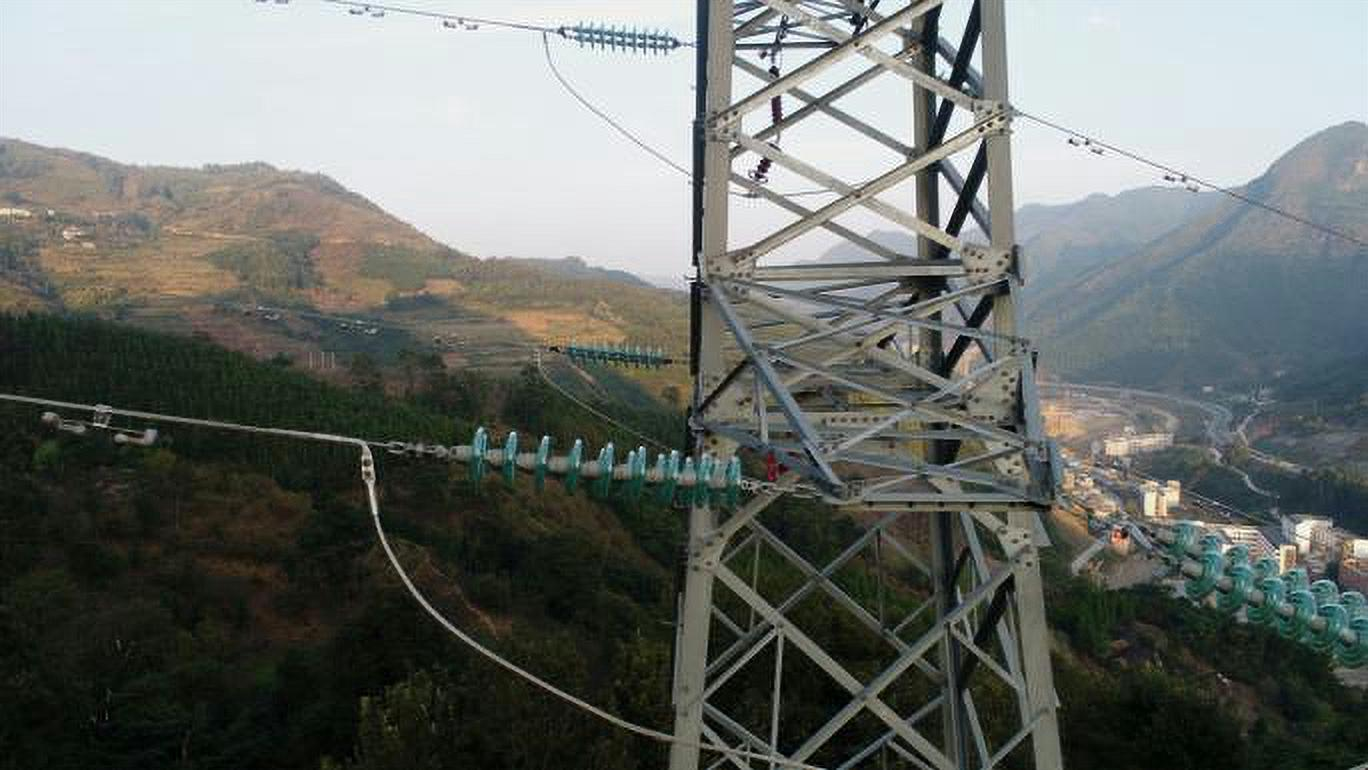insulator: (1153, 511, 1368, 673), (465, 423, 745, 517), (573, 16, 675, 58), (563, 335, 667, 374)
